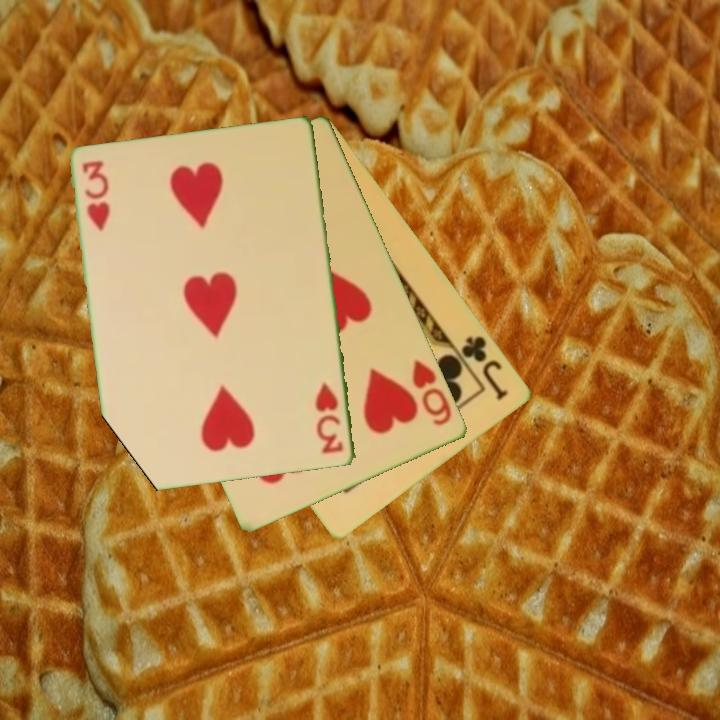3h: (312, 379, 347, 457), (79, 157, 113, 235)
6h: (409, 356, 455, 429)
Jc: (450, 332, 512, 403)
